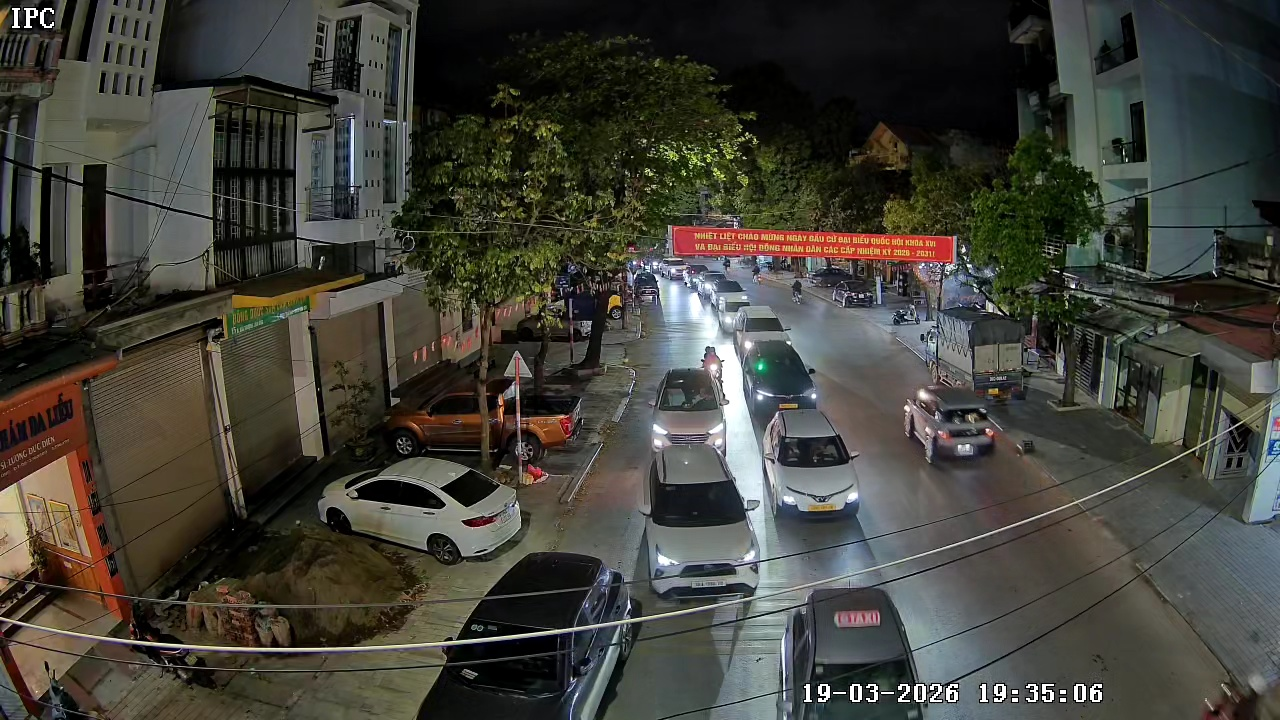car: (413, 549, 644, 719), (318, 455, 531, 561), (637, 445, 763, 595), (761, 407, 861, 520), (903, 383, 999, 465), (648, 366, 731, 457), (741, 338, 819, 415), (734, 306, 791, 363)
motorbike: (699, 342, 725, 388)
